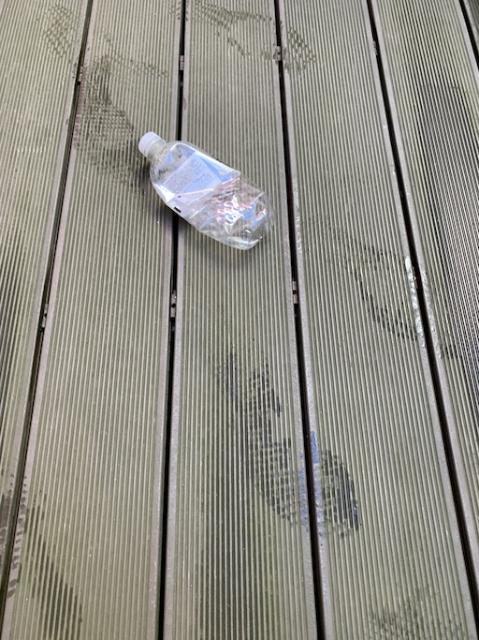plastic: (138, 130, 273, 247)
